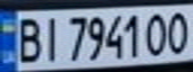1: (121, 10, 145, 58)
4: (103, 11, 127, 61)
7: (63, 12, 87, 62)
9: (84, 11, 106, 61)
B: (12, 14, 45, 63)
I: (36, 12, 63, 62)
O: (142, 9, 172, 56), (163, 8, 193, 54)
